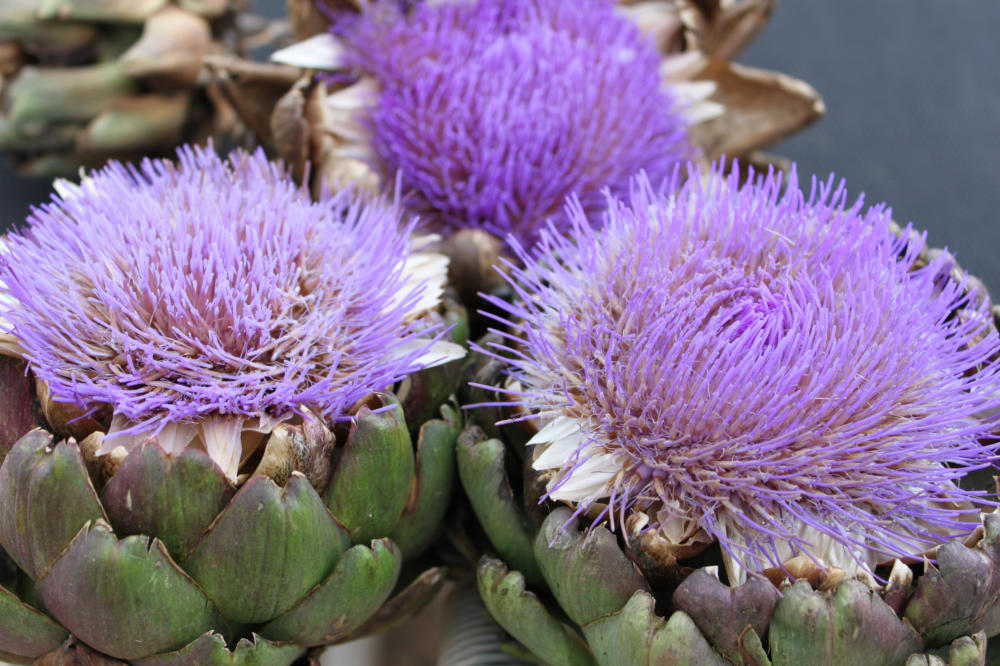thistle: (511, 165, 1000, 657), (5, 146, 470, 634), (357, 5, 691, 250)
